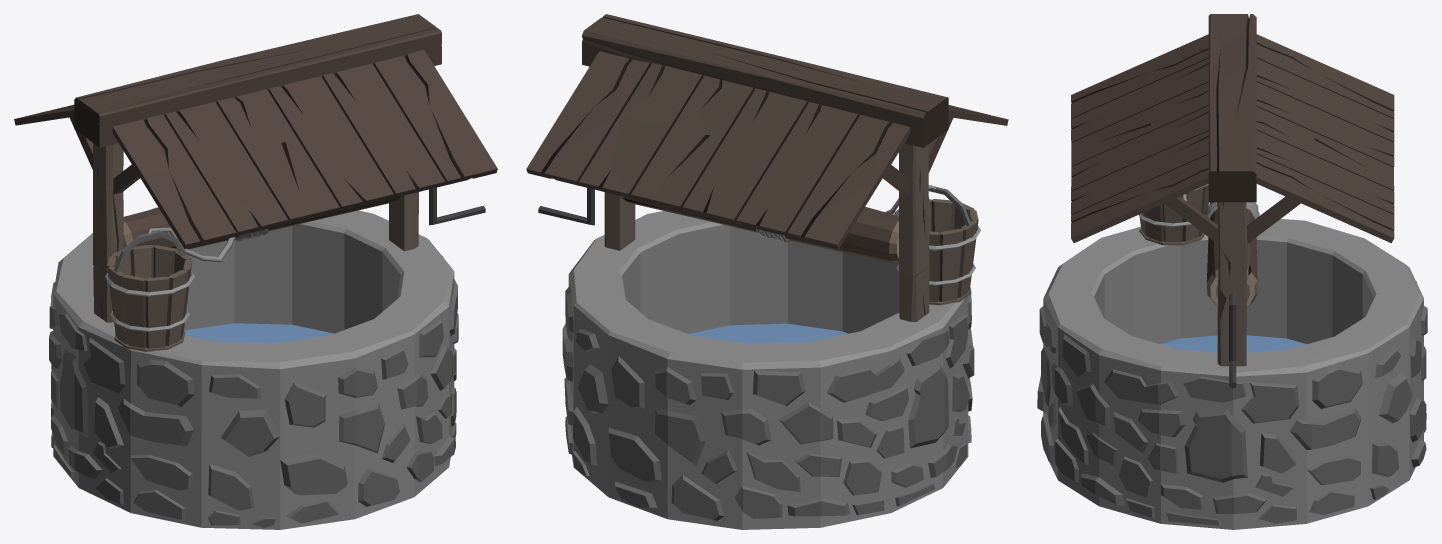
File: Well.fbx
3 renders of one model, left to right at view 1: azimuth 30°, elevation 25°; view 2: azimuth 150°, elevation 25°; view 3: azimuth 270°, elevation 25°, orthographic. The views are drawn at different scales.
Visible parts, largest first — view 1: Well; view 2: Well; view 3: Well.
Boxes of the visible parts, left/top/right/bottom form: Well: left=14, top=14, right=497, bottom=529; Well: left=526, top=14, right=1008, bottom=529; Well: left=1037, top=14, right=1427, bottom=529.
Bounding box in the file's own units: 2.58 × 2.3 × 2.27.
